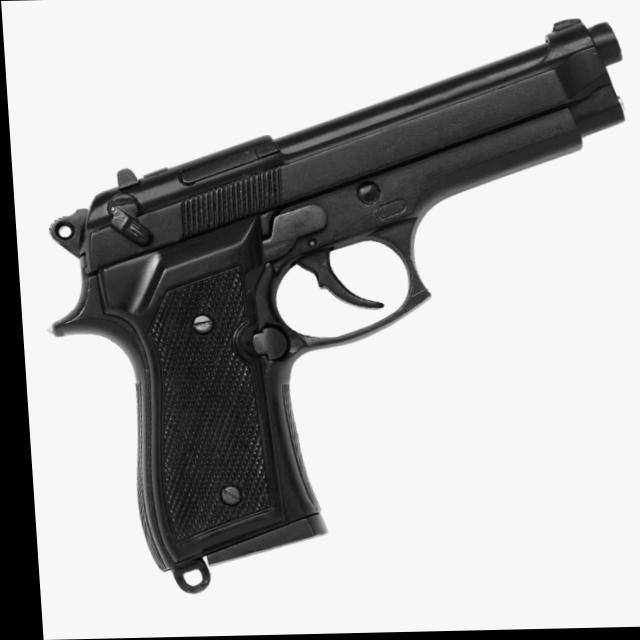handgun: (29, 15, 640, 592)
